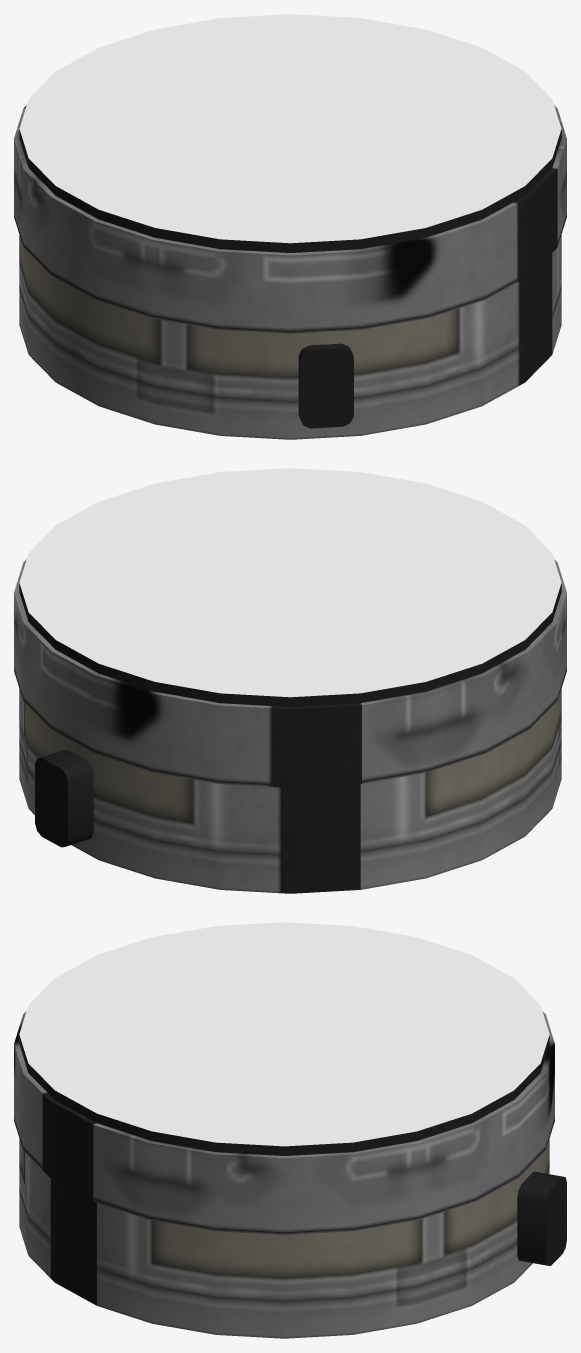
Rendered from basic_fuel_tank.obj.
3 views of the same model, one above another, from view 1: azimuth 30°, elevation 25°; view 2: azimuth 150°, elevation 25°; view 3: azimuth 270°, elevation 25° (orthographic). The views are drawn at different scales.
Parts seen in each view (by area): view 1: 1; view 2: 1; view 3: 1.
Part boxes in pixels (x1,y1,x2,y2): 1: (14, 14, 566, 439); 1: (14, 468, 566, 893); 1: (14, 922, 566, 1338).
Bounding box in the file's own units: 1.27 × 0.5 × 1.3.
